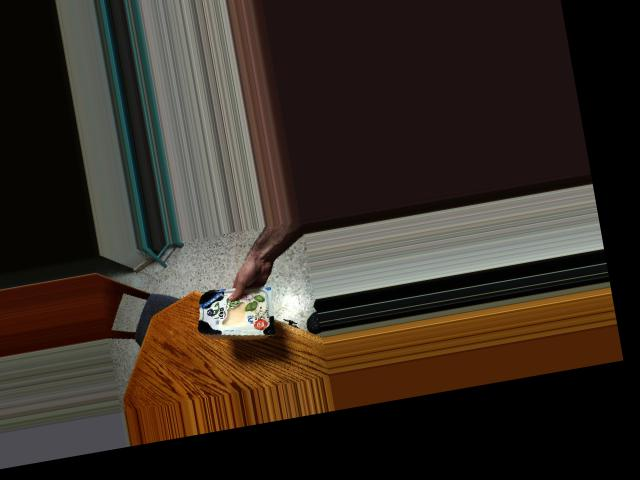cheese: (190, 265, 283, 351)
